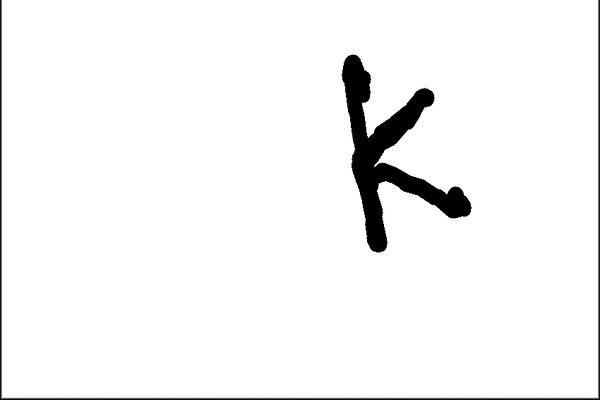K: (329, 43, 476, 259)
